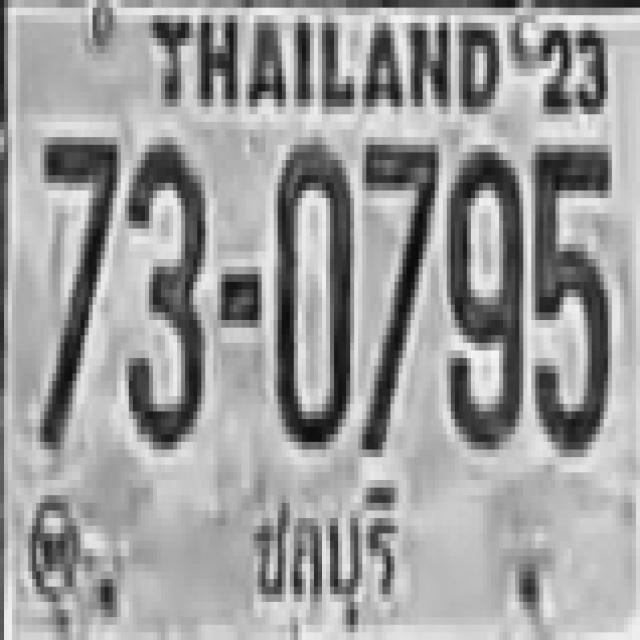0: (274, 137, 350, 442)
3: (125, 137, 201, 442)
5: (531, 137, 608, 450)
7: (40, 129, 117, 442), (358, 137, 435, 450)
9: (447, 137, 519, 442)
Chonburi: (248, 480, 402, 640)
